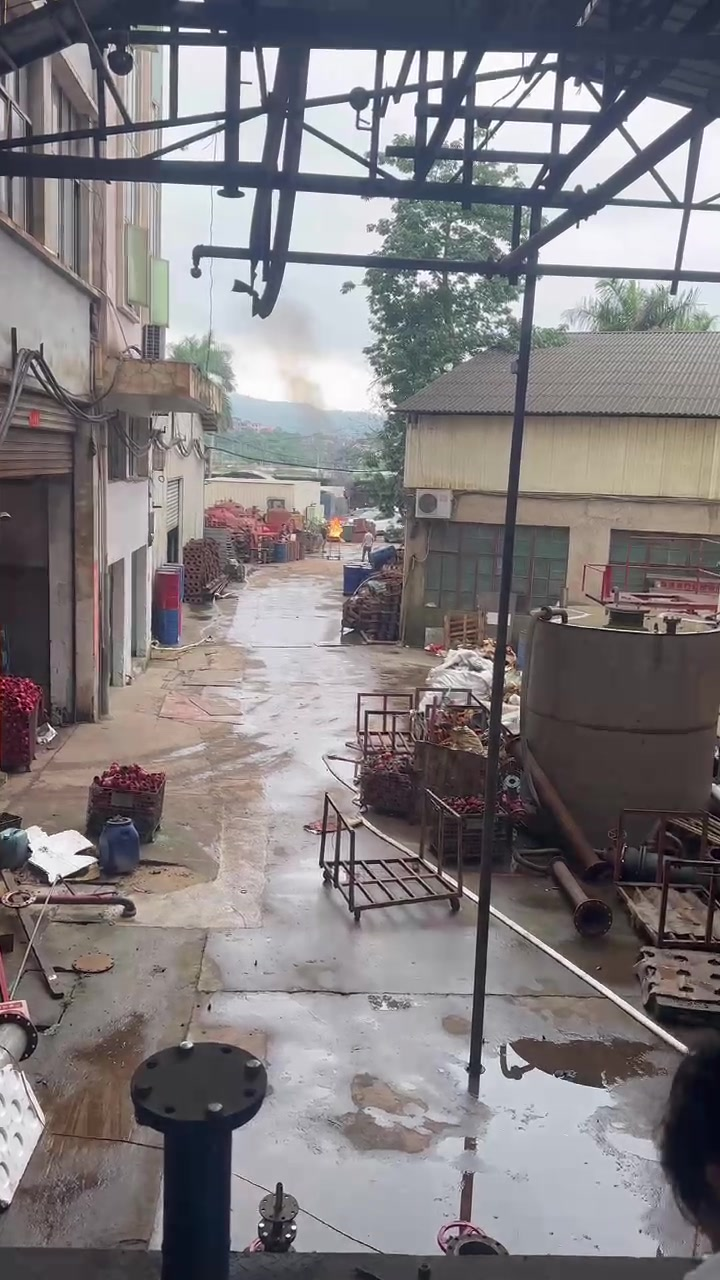fire: (328, 517, 342, 536)
